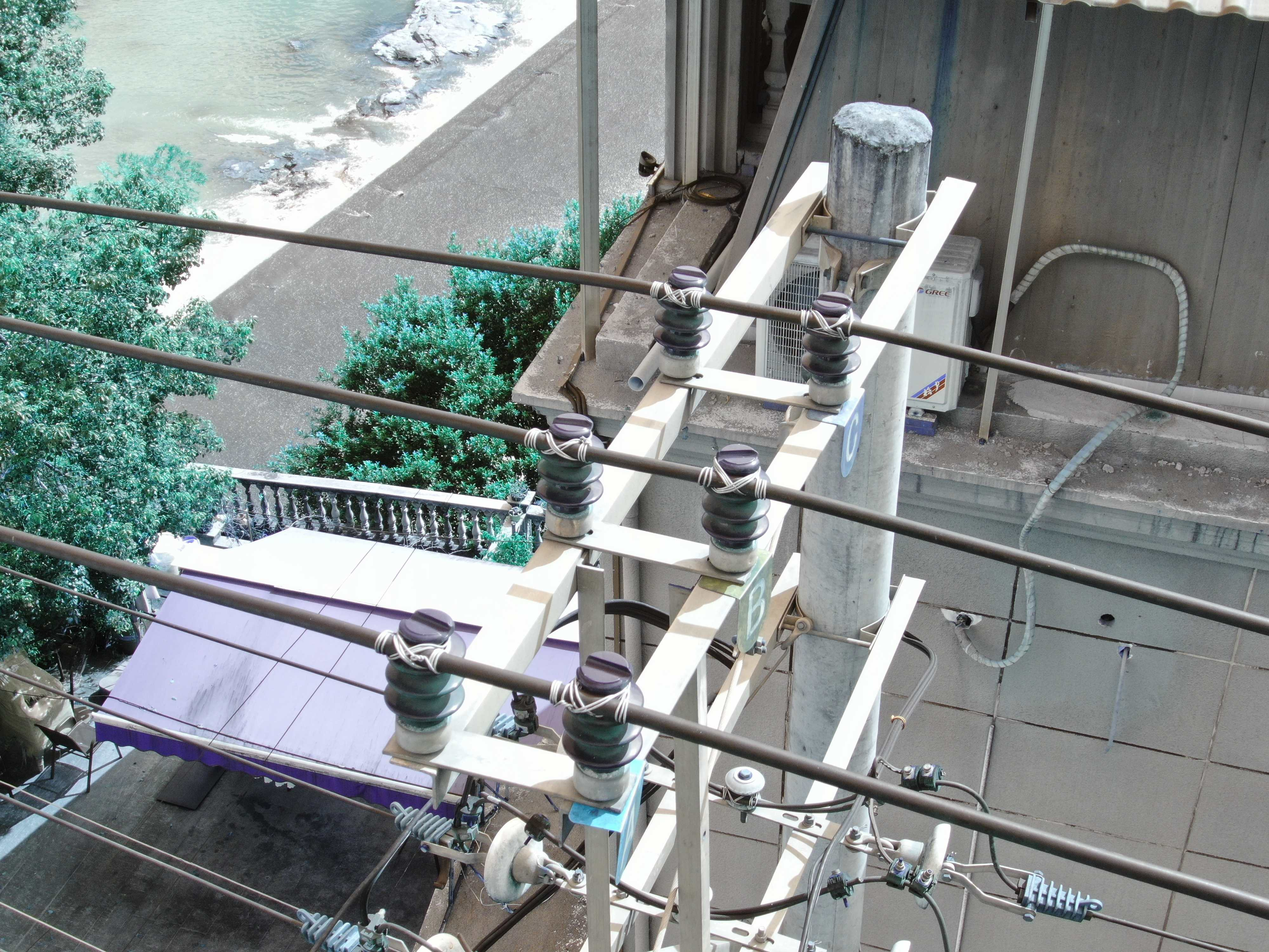severe_soiling_no_discharge_whole: (557, 645, 650, 804), (379, 602, 471, 759), (689, 437, 774, 574), (532, 409, 609, 539), (796, 290, 865, 407), (648, 263, 716, 380), (876, 820, 955, 909), (480, 812, 553, 906)
